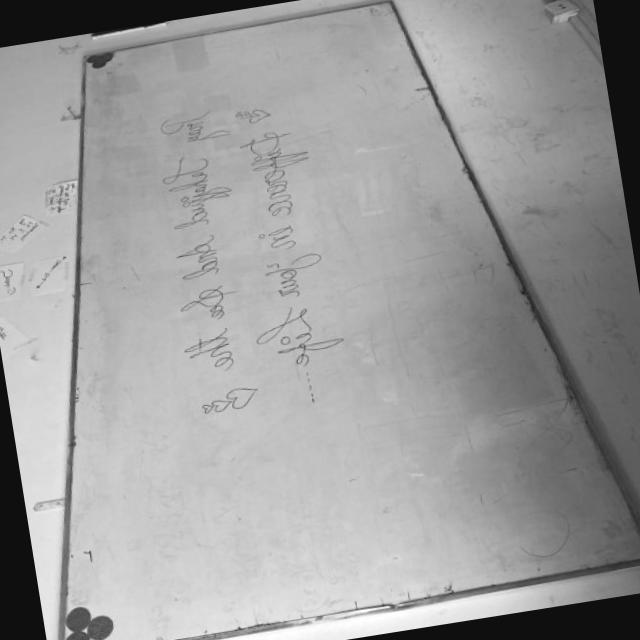White-board: (59, 3, 640, 640)
